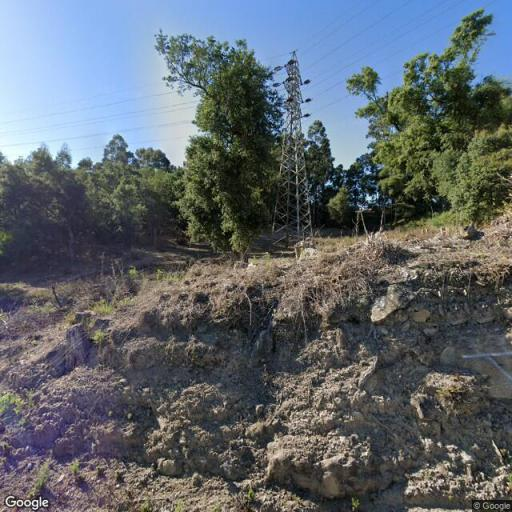ss_3: (270, 48, 315, 252)
